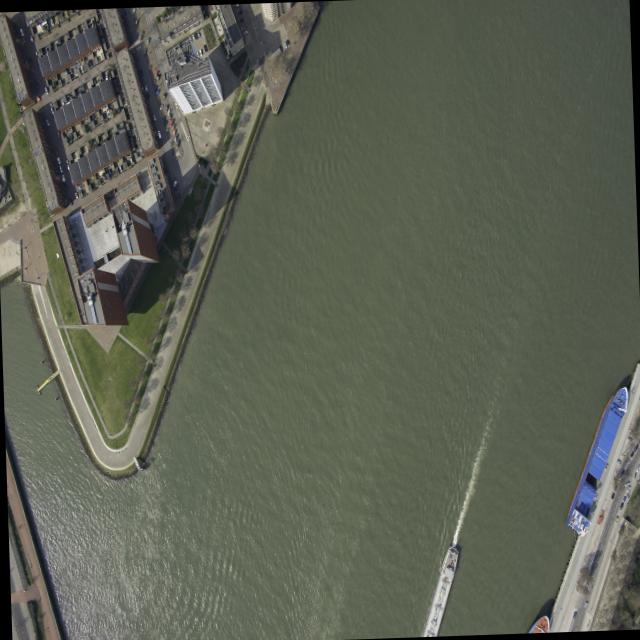ship: (563, 372, 631, 544), (451, 559, 454, 566), (448, 552, 450, 558)
small-vehicle: (618, 468, 623, 477), (43, 85, 48, 94), (626, 435, 632, 442), (634, 463, 639, 471), (632, 443, 637, 451), (133, 17, 138, 25), (18, 27, 23, 35), (67, 197, 72, 205), (55, 126, 59, 136), (57, 164, 62, 172), (236, 8, 242, 14), (571, 610, 575, 619), (202, 43, 206, 52), (187, 34, 191, 43), (168, 117, 172, 126), (156, 129, 160, 138), (87, 58, 91, 67), (106, 109, 110, 118), (101, 171, 105, 180), (34, 80, 38, 89), (24, 16, 28, 25), (612, 483, 617, 490), (609, 491, 614, 498), (625, 484, 630, 491), (628, 450, 633, 457), (618, 501, 622, 509), (613, 515, 617, 523), (142, 46, 146, 54), (195, 29, 199, 37), (193, 31, 197, 39), (122, 10, 126, 18), (138, 67, 142, 75), (164, 103, 168, 111), (167, 112, 171, 120), (164, 123, 168, 131), (107, 167, 111, 175), (117, 164, 121, 172), (128, 154, 132, 162), (27, 57, 31, 65), (49, 105, 53, 113), (51, 113, 55, 121), (53, 146, 57, 154), (60, 173, 64, 181), (65, 162, 69, 170), (242, 28, 247, 34), (623, 480, 628, 486), (615, 458, 620, 464), (238, 16, 243, 22), (173, 101, 177, 108), (264, 51, 268, 58), (616, 475, 620, 482), (621, 495, 625, 502), (625, 457, 629, 464), (284, 38, 288, 45), (282, 40, 286, 47), (277, 44, 281, 51), (158, 103, 162, 110), (161, 91, 165, 98), (124, 17, 128, 24), (145, 36, 149, 43), (161, 114, 165, 121), (134, 53, 138, 60), (153, 69, 157, 76), (145, 91, 149, 98), (153, 83, 157, 90), (155, 87, 159, 94), (151, 78, 155, 85), (90, 19, 94, 26), (81, 24, 85, 31), (175, 192, 179, 199), (21, 35, 25, 42), (69, 93, 73, 100), (29, 65, 33, 72), (60, 98, 64, 105), (69, 131, 73, 138), (37, 62, 41, 69), (54, 41, 58, 48), (73, 191, 77, 198), (636, 438, 640, 444), (190, 33, 194, 39), (147, 63, 151, 69), (104, 71, 107, 79), (155, 73, 159, 79), (143, 84, 147, 90), (171, 128, 175, 134), (175, 139, 178, 147), (168, 139, 172, 145), (172, 179, 176, 185), (173, 184, 177, 190), (79, 64, 82, 72), (56, 155, 59, 163), (583, 600, 586, 607), (152, 114, 155, 121), (198, 48, 201, 55), (195, 50, 198, 57), (70, 177, 73, 184), (29, 34, 32, 41), (170, 122, 173, 129), (163, 118, 166, 125), (173, 133, 176, 140), (68, 67, 71, 74), (45, 118, 48, 125), (78, 88, 81, 95), (166, 108, 169, 115), (45, 46, 48, 53), (63, 182, 66, 189)
